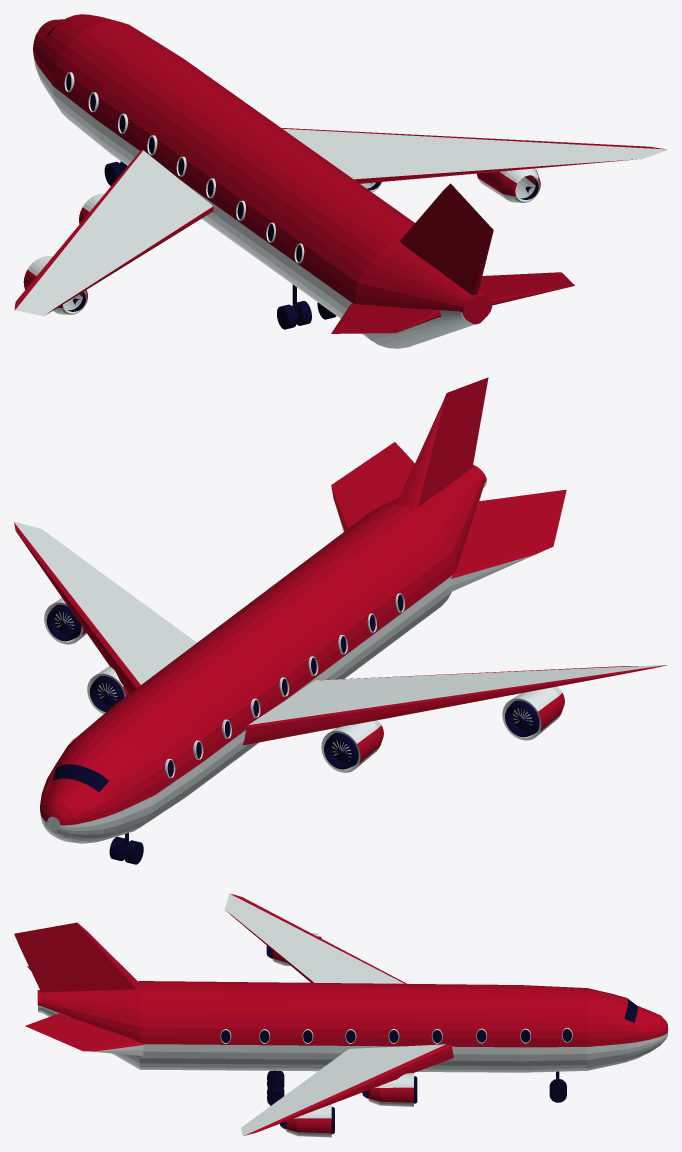
Rendered from toy_plane_lowpoly.fbx.
3 views of the same model, one above another, from view 1: azimuth 30°, elevation 25°; view 2: azimuth 150°, elevation 25°; view 3: azimuth 270°, elevation 25° (orthographic). The views are drawn at different scales.
Parts seen in each view (by area): view 1: Цилиндр.002; view 2: Цилиндр.002; view 3: Цилиндр.002.
Part boxes in pixels (<box>): Цилиндр.002: <box>14,14,667,348</box>; Цилиндр.002: <box>14,377,667,864</box>; Цилиндр.002: <box>14,893,667,1137</box>.
Size of the model in its own units: 39.14 by 13.58 by 45.7.
